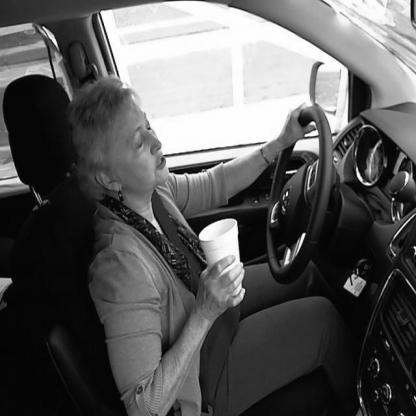seatbelt: (60, 63, 222, 312)
